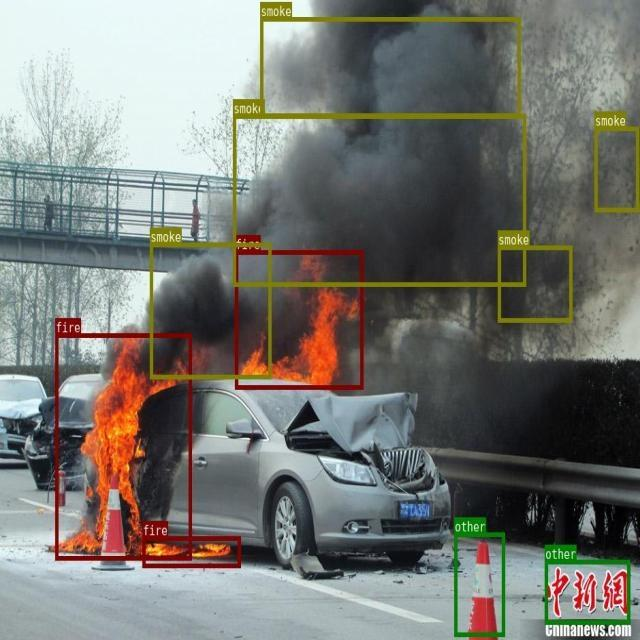fire: (55, 333, 191, 560), (235, 249, 363, 389), (142, 536, 240, 567)
smoke: (233, 114, 525, 286), (260, 16, 520, 117), (150, 242, 271, 378), (497, 245, 572, 322), (595, 126, 639, 211)
